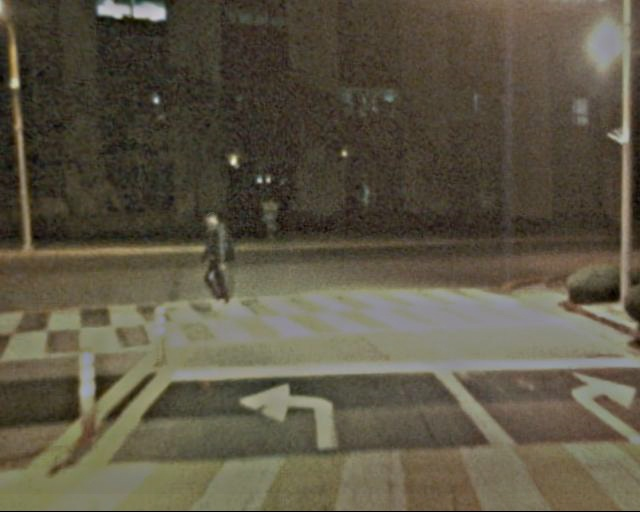person: (194, 203, 237, 309)
